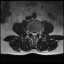CCS_normal: (33, 30, 35, 40)
LFS_normal: (37, 30, 39, 36)
LLS_normal: (35, 30, 37, 37)
RFS_normal: (29, 29, 31, 35)
RLS_normal: (31, 30, 33, 36)
